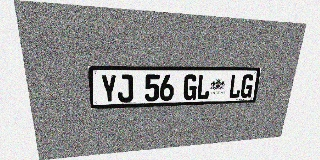5: (145, 74, 160, 102)
6: (160, 74, 175, 101)
G: (183, 74, 198, 100), (240, 74, 254, 98)
J: (117, 74, 133, 103)
L: (196, 74, 211, 100), (228, 74, 243, 99)
Y: (100, 74, 117, 103)
